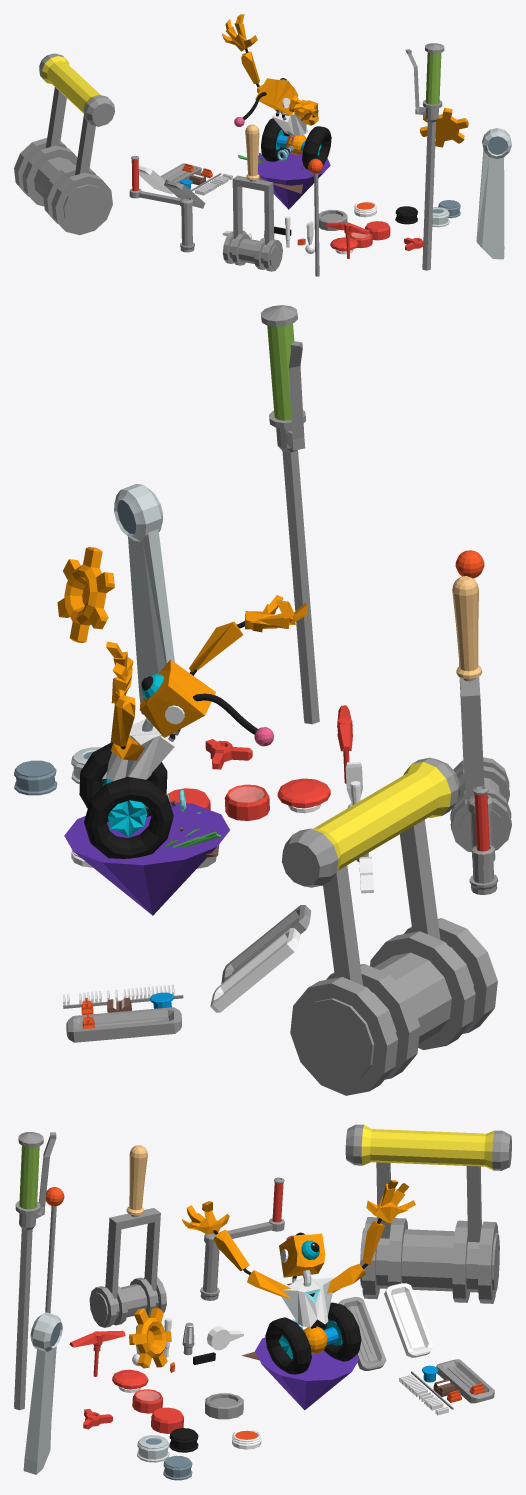
The model's file is model-triangulated.obj.
3 renders of one model, top to bottom at view 1: azimuth 30°, elevation 25°; view 2: azimuth 150°, elevation 25°; view 3: azimuth 270°, elevation 25°, orthographic. The views are drawn at different scales.
Visible parts, largest first — view 1: group1809206653, group1837781442, group1967083079, group595099903, group152935785, group2062117813, group1979282658, group1378897380, group764630229, group1407346704, group527809758, group1106125634 (+9 smaller); view 2: group1809206653, group1837781442, group595099903, group152935785, group1967083079, group2062117813, group582019186, group1378897380, group527809758, group1657880109, group1003368627, group375705588 (+7 smaller); view 3: group1809206653, group1837781442, group595099903, group1967083079, group152935785, group582019186, group2062117813, group1657880109, group1979282658, group1378897380, group764630229, group792915945 (+16 smaller).
Boxes of the visible parts, x1,y1,x2,y2 form: group1809206653: (14, 53, 114, 235); group1837781442: (222, 14, 331, 193); group1967083079: (476, 128, 511, 259); group595099903: (405, 43, 444, 270); group152935785: (258, 151, 330, 209); group2062117813: (420, 107, 468, 147); group1979282658: (232, 175, 274, 244); group1378897380: (245, 124, 259, 180); group764630229: (239, 238, 281, 267); group1407346704: (180, 207, 194, 252); group527809758: (232, 185, 242, 238); group1106125634: (314, 173, 319, 276); group1809206653: (281, 757, 497, 1095); group1837781442: (79, 595, 307, 858); group595099903: (261, 305, 319, 724); group152935785: (64, 802, 229, 915); group1967083079: (114, 483, 174, 714); group2062117813: (57, 547, 114, 642); group582019186: (210, 928, 300, 1012); group1378897380: (452, 576, 482, 678); group527809758: (461, 698, 484, 799); group1657880109: (221, 905, 311, 983); group1003368627: (123, 1007, 181, 1038); group375705588: (224, 784, 269, 820); group1809206653: (345, 1124, 511, 1303); group1837781442: (182, 1180, 415, 1374); group595099903: (14, 1132, 56, 1410); group1967083079: (23, 1312, 62, 1474); group152935785: (255, 1337, 358, 1410); group582019186: (384, 1283, 433, 1357); group2062117813: (129, 1307, 171, 1368); group1657880109: (338, 1297, 386, 1370); group1979282658: (105, 1208, 160, 1298); group1378897380: (126, 1145, 147, 1215); group764630229: (91, 1284, 145, 1322); group792915945: (205, 1393, 243, 1419).
Bounding box in the file's own units: 2.7 × 1.88 × 2.75.
